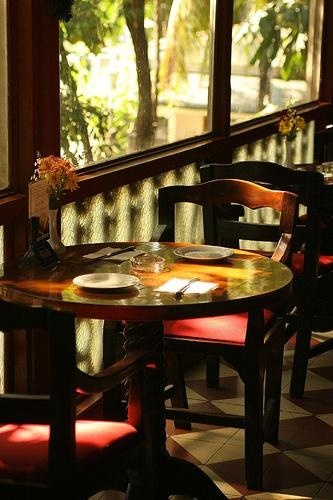chair: (128, 181, 301, 480), (198, 162, 333, 400), (1, 309, 155, 500)
diningtable: (6, 239, 300, 496)
